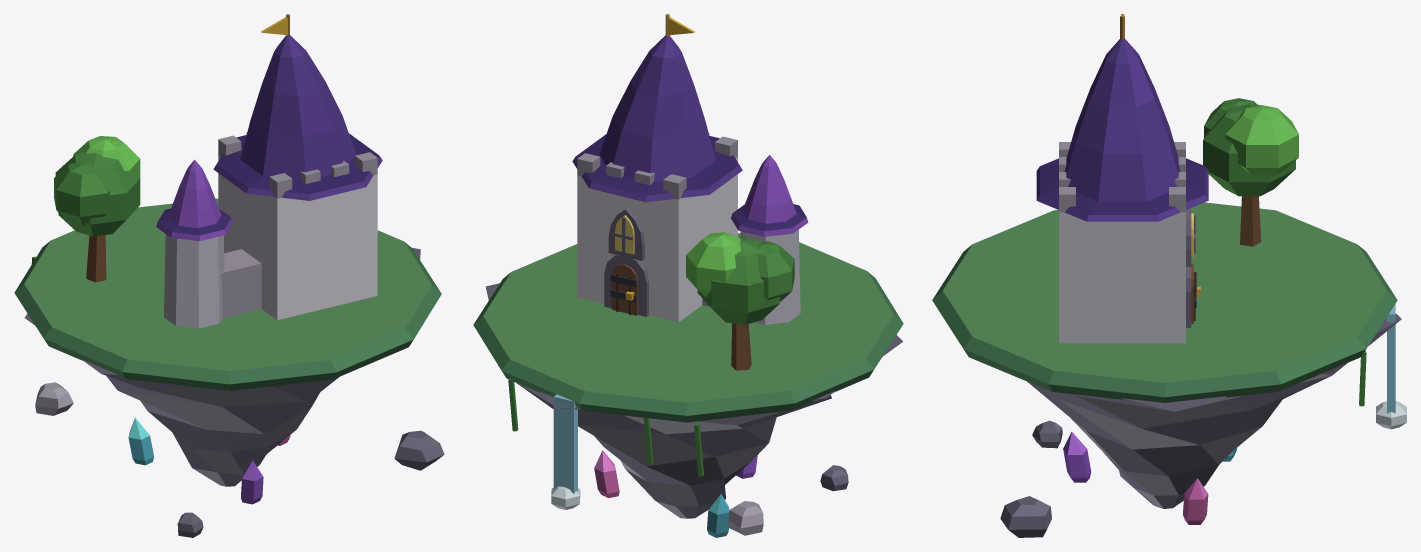
File: Decor_WizardTower_SkyIsle.fbx
3 views of the same model, side by side, from view 1: azimuth 30°, elevation 25°; view 2: azimuth 150°, elevation 25°; view 3: azimuth 270°, elevation 25° (orthographic). The views are drawn at different scales.
Visible parts, largest first — view 1: SkyIsle_Body; view 2: SkyIsle_Body; view 3: SkyIsle_Body.
Part boxes in pixels (left/top/right/bottom): SkyIsle_Body: left=14, top=14, right=444, bottom=537; SkyIsle_Body: left=473, top=14, right=903, bottom=537; SkyIsle_Body: left=932, top=14, right=1406, bottom=537.
Size of the model in its own units: 22 by 26 by 22.
